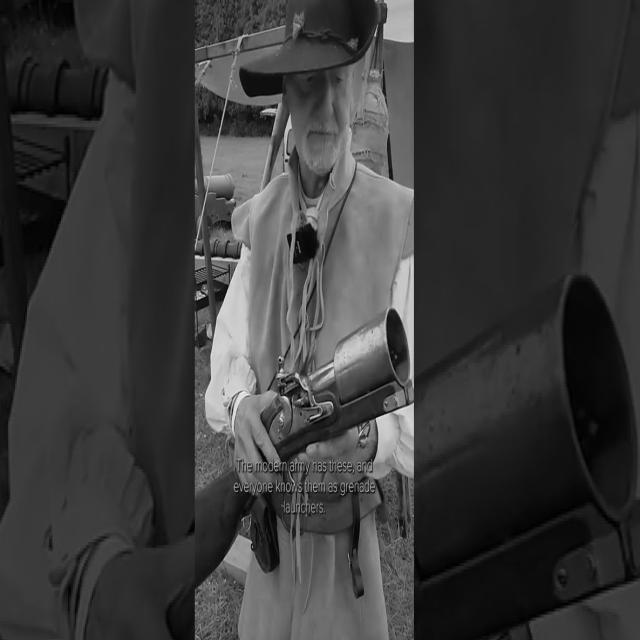Weapon: (253, 308, 413, 471)
